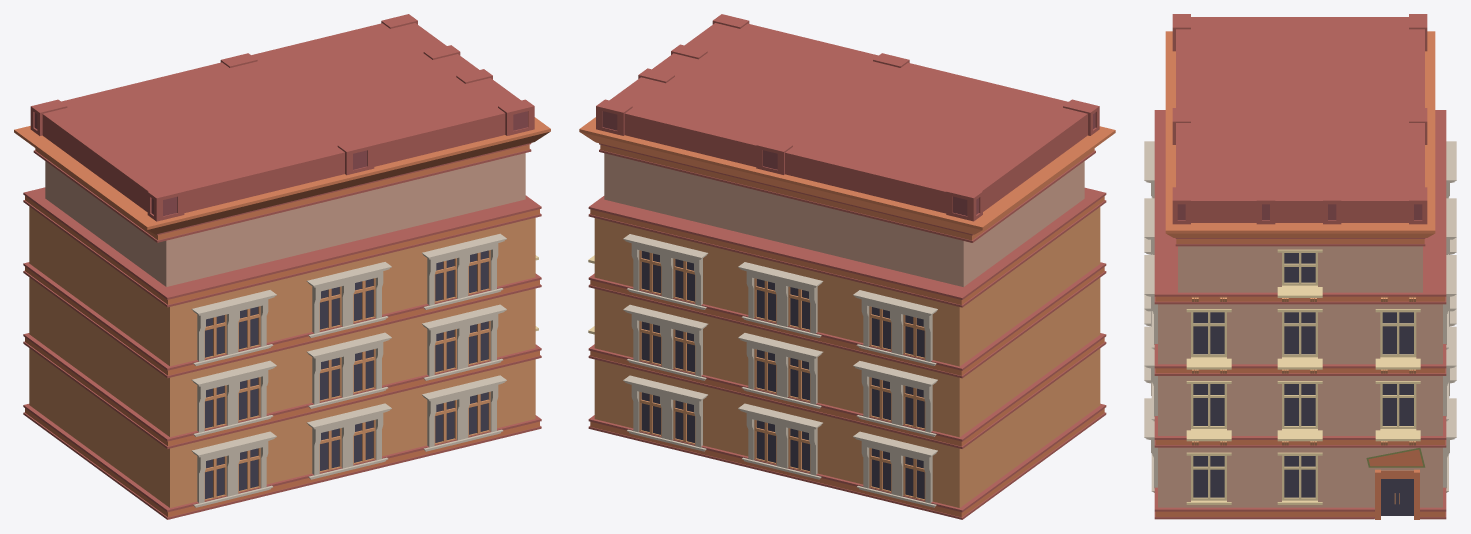
Rendered from Building15.fbx.
3 views of the same model, side by side, from view 1: azimuth 30°, elevation 25°; view 2: azimuth 150°, elevation 25°; view 3: azimuth 270°, elevation 25° (orthographic).
Parts seen in each view (by area): view 1: Plane.091, Plane.082, Plane.093, Plane.090; view 2: Plane.091, Plane.093, Plane.082, Plane.090; view 3: Plane.091, Plane.082, Plane.090, Plane.093.
Part boxes in pixels (x1,y1,x2,y2): Plane.091: (14, 14, 550, 307); Plane.082: (23, 206, 541, 378); Plane.093: (23, 277, 541, 448); Plane.090: (23, 348, 541, 519); Plane.091: (579, 14, 1115, 307); Plane.093: (588, 278, 1106, 448); Plane.082: (588, 207, 1106, 378); Plane.090: (588, 348, 1106, 519); Plane.091: (1154, 14, 1446, 304); Plane.082: (1144, 141, 1456, 375); Plane.090: (1144, 309, 1456, 519); Plane.093: (1144, 237, 1456, 447).
Bounding box in the file's own units: 2982 × 2229 × 1972.
